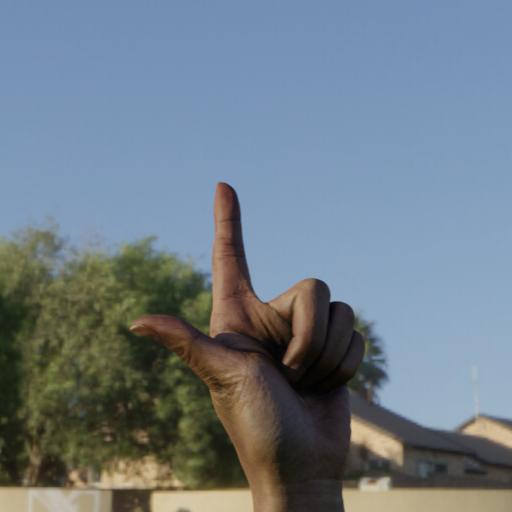L: (126, 171, 377, 512)
